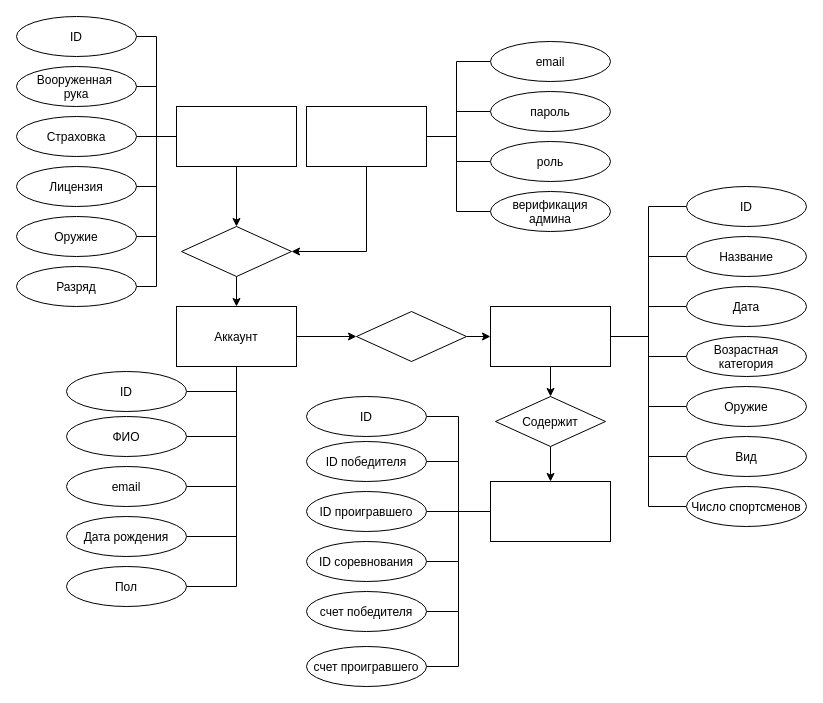
The diagram is 823 pixels wide and 703 high, and some of its shapes have lost their labels. The shapes that lost their labels are listed below. From the top down, each one's centre as x and y in pixels, then its label:
At pixel 236 136: "Спортсмен".
At pixel 366 136: "Пользователь".
At pixel 236 251: "имеет".
At pixel 411 336: "создает, участвует".
At pixel 550 336: "Соревнование".
At pixel 550 511: "Бой".
